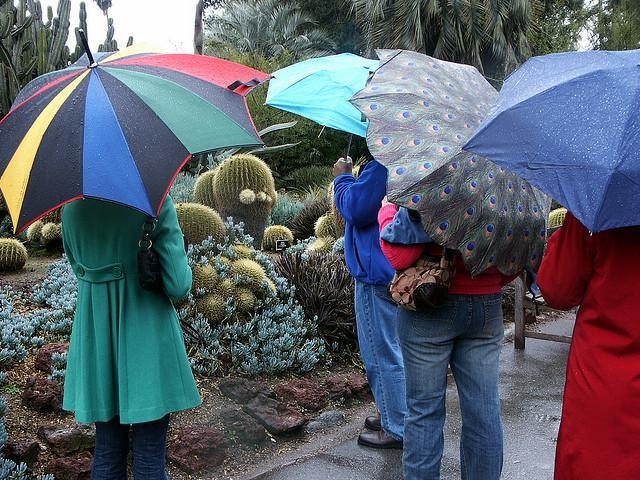hand: (534, 203, 596, 302), (150, 225, 198, 312), (328, 151, 369, 206)
